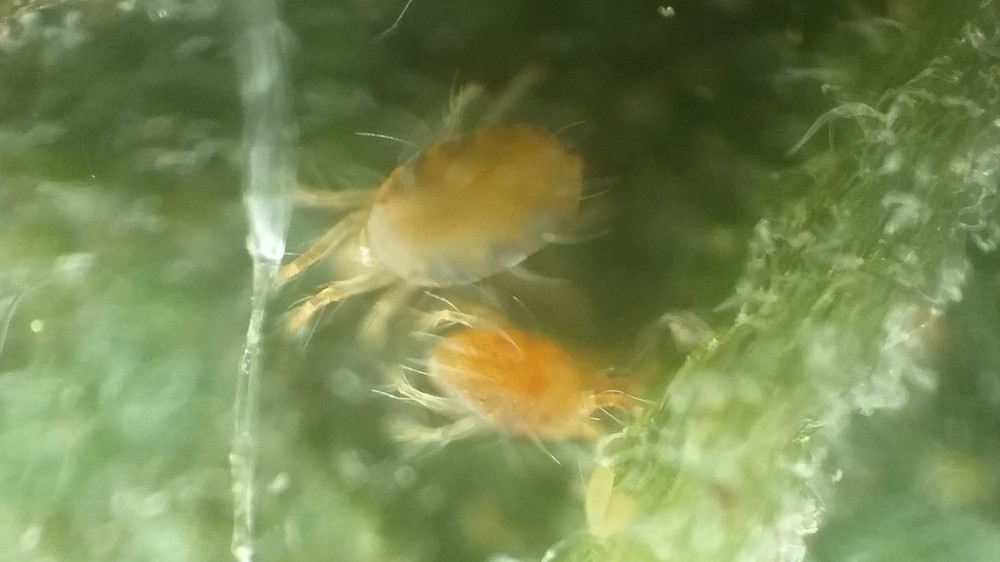Aracnido Rojo: (248, 74, 674, 338), (399, 303, 712, 488)
